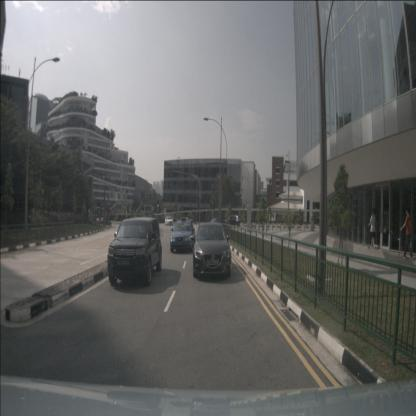human-pedestrian-adult: (400, 207, 414, 261), (367, 208, 377, 250)
vehicle-car: (107, 217, 162, 286), (193, 222, 231, 278), (170, 220, 196, 252), (224, 214, 240, 227), (164, 216, 174, 226)
